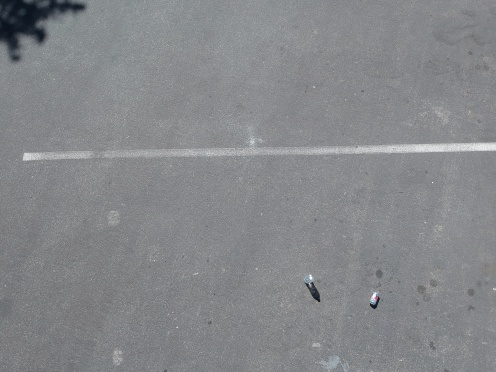bottle: (303, 269, 316, 286)
can: (367, 290, 381, 307)
